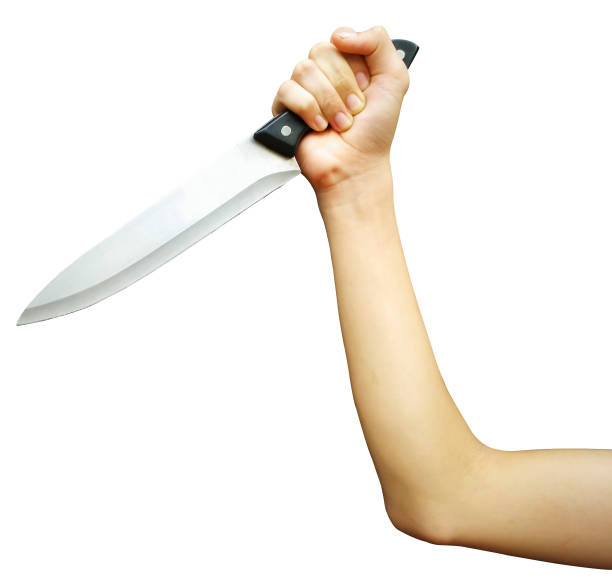knife: (11, 37, 422, 330)
